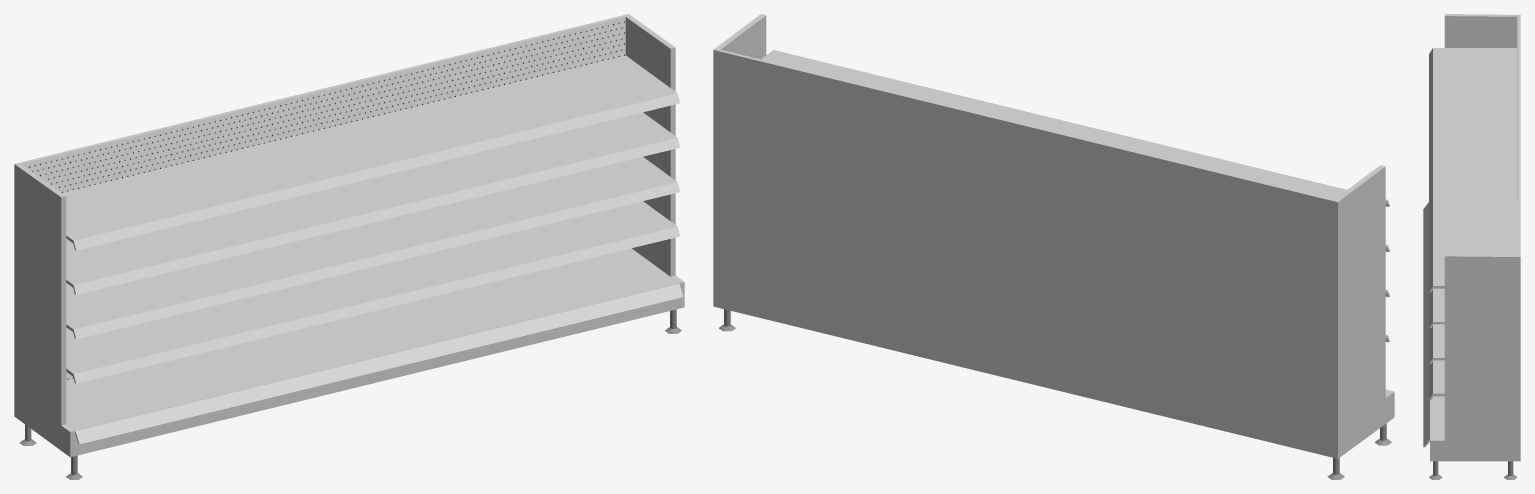
The model's file is ray_store_standard_002.FBX.
The picture shows the model from 3 angles, left to right: view 1: azimuth 30°, elevation 25°; view 2: azimuth 150°, elevation 25°; view 3: azimuth 270°, elevation 25°; orthographic projection. The views are drawn at different scales.
Parts seen in each view (by area): view 1: ray_store_standard_002; view 2: ray_store_standard_002; view 3: ray_store_standard_002.
Boxes of the visible parts, bbox=[...] form: ray_store_standard_002: bbox=[14, 14, 684, 479]; ray_store_standard_002: bbox=[713, 14, 1394, 479]; ray_store_standard_002: bbox=[1423, 14, 1520, 479].
Size of the model in its own units: 4.69 by 2.02 by 0.7939.
